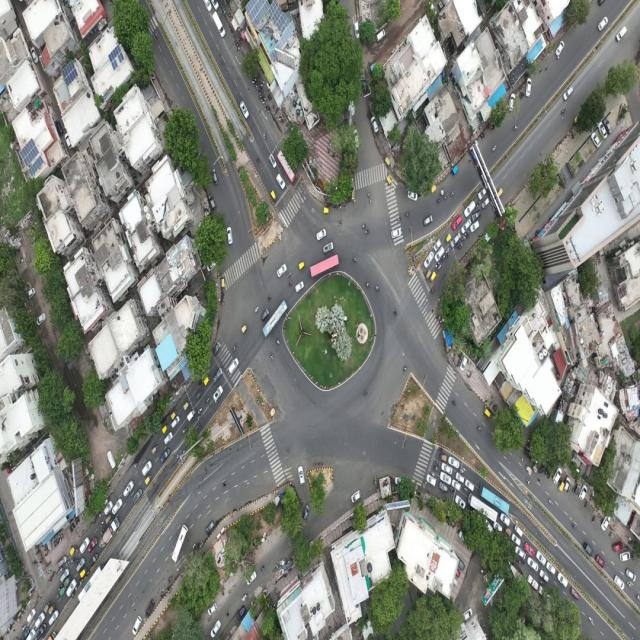3W: (170, 403, 178, 422), (150, 442, 160, 457), (503, 525, 513, 539), (143, 471, 152, 486), (161, 420, 170, 435), (182, 398, 191, 413), (572, 482, 581, 497), (482, 405, 492, 418), (43, 599, 51, 615), (384, 153, 392, 169), (240, 321, 249, 335), (572, 112, 581, 126), (203, 373, 211, 388), (269, 188, 277, 203), (48, 602, 57, 615), (63, 574, 72, 587), (69, 544, 78, 557), (451, 165, 460, 178), (439, 451, 448, 464), (105, 512, 113, 526), (79, 566, 88, 578), (297, 260, 306, 272), (385, 174, 393, 187), (430, 184, 438, 197), (322, 205, 331, 216), (497, 185, 504, 198), (425, 268, 432, 281), (430, 270, 437, 283), (558, 481, 565, 494), (59, 586, 67, 597), (196, 389, 203, 401), (220, 276, 226, 290), (444, 233, 451, 245)
Bus: (74, 561, 107, 605), (467, 488, 500, 527), (261, 297, 291, 339), (477, 481, 512, 516), (308, 254, 341, 282), (170, 521, 189, 566), (276, 150, 296, 185)
Cars: (131, 614, 143, 640), (144, 597, 157, 620), (209, 616, 222, 639), (349, 485, 363, 506), (245, 568, 259, 588), (600, 511, 612, 534), (295, 463, 306, 488), (562, 83, 575, 104), (320, 239, 336, 256), (130, 486, 144, 505), (224, 224, 235, 248), (552, 464, 564, 486), (66, 577, 79, 597), (589, 131, 602, 151), (613, 572, 626, 592), (204, 515, 215, 538), (142, 458, 154, 479), (275, 170, 287, 191), (423, 249, 435, 270), (301, 501, 311, 526), (58, 566, 71, 585), (78, 537, 91, 556), (122, 479, 135, 498), (161, 430, 174, 449), (557, 571, 570, 590), (535, 548, 548, 567), (239, 98, 250, 120), (267, 148, 278, 170), (159, 447, 171, 467), (213, 385, 225, 405), (207, 599, 219, 619), (554, 37, 564, 61), (464, 198, 476, 218), (111, 497, 124, 515), (352, 126, 361, 152), (578, 481, 588, 504), (228, 357, 240, 376), (597, 14, 609, 33), (450, 231, 462, 250), (434, 244, 446, 263), (595, 553, 607, 572), (500, 513, 514, 529), (464, 479, 477, 496), (276, 259, 286, 281), (210, 166, 220, 188), (597, 120, 608, 140), (603, 116, 614, 136), (48, 609, 60, 627), (87, 535, 99, 553), (236, 605, 248, 623), (213, 365, 223, 386), (314, 227, 328, 242), (374, 28, 387, 44), (406, 187, 419, 203), (615, 27, 628, 43), (526, 556, 539, 572), (524, 77, 533, 100), (25, 607, 37, 624), (35, 623, 47, 640), (461, 218, 473, 235), (523, 541, 535, 558), (103, 498, 114, 516), (353, 20, 362, 42), (451, 213, 462, 231), (583, 541, 594, 559), (569, 586, 581, 602), (455, 494, 467, 510), (370, 115, 380, 134), (88, 552, 99, 569), (390, 226, 403, 240), (624, 570, 637, 584), (212, 339, 221, 359), (507, 93, 516, 113), (459, 354, 468, 374), (441, 460, 453, 475), (57, 553, 68, 569), (294, 280, 305, 296), (451, 478, 462, 494), (440, 470, 451, 486), (208, 192, 217, 211), (171, 414, 181, 431), (515, 546, 528, 559), (423, 214, 434, 229), (470, 218, 481, 233), (546, 560, 557, 575), (448, 454, 459, 469), (426, 473, 437, 488), (261, 307, 271, 323), (619, 550, 631, 563), (563, 476, 571, 495), (76, 556, 86, 571), (35, 613, 46, 626), (202, 0, 213, 13), (539, 569, 550, 582), (511, 533, 522, 546), (20, 626, 30, 640), (360, 74, 367, 94), (478, 186, 487, 201), (612, 541, 624, 552), (26, 627, 36, 640), (514, 525, 524, 538), (493, 520, 503, 533), (455, 471, 465, 484), (439, 481, 449, 494), (433, 238, 442, 252), (472, 209, 482, 221), (481, 197, 490, 210)
LCV: (211, 7, 227, 39), (526, 573, 539, 591), (186, 408, 196, 425)
M2W: (569, 520, 578, 531), (590, 511, 597, 525), (259, 562, 267, 574), (220, 476, 227, 489), (537, 577, 546, 587), (559, 105, 566, 117), (524, 476, 531, 488), (587, 615, 595, 625), (351, 255, 359, 264), (395, 214, 403, 223), (490, 144, 498, 153), (54, 533, 59, 547), (231, 343, 238, 353), (253, 304, 260, 314), (392, 308, 399, 318), (450, 398, 457, 408), (547, 497, 554, 507), (462, 484, 469, 494), (361, 388, 368, 398), (153, 29, 159, 40), (375, 282, 381, 293), (225, 608, 231, 619), (269, 349, 274, 362), (262, 129, 267, 142), (192, 541, 197, 554), (30, 558, 39, 565), (98, 520, 105, 529), (107, 517, 114, 526), (133, 460, 140, 469), (626, 580, 633, 589), (204, 395, 210, 405), (275, 336, 281, 346), (267, 293, 273, 303), (286, 271, 292, 281), (450, 189, 456, 199), (513, 121, 518, 133), (440, 253, 446, 263), (402, 364, 408, 374), (476, 423, 482, 433), (449, 484, 455, 494), (52, 536, 56, 550), (59, 565, 66, 573), (514, 557, 522, 564), (432, 464, 439, 472), (429, 470, 436, 478), (22, 623, 28, 632), (68, 525, 74, 534), (65, 559, 71, 568), (85, 570, 91, 579), (198, 378, 204, 387), (288, 279, 294, 288), (436, 196, 442, 205), (443, 192, 449, 201), (475, 200, 481, 209), (623, 542, 629, 551), (459, 466, 465, 475), (438, 445, 444, 454), (436, 459, 442, 468), (365, 229, 372, 236), (361, 223, 368, 230), (404, 211, 411, 218), (608, 533, 615, 540), (58, 533, 62, 545), (100, 528, 106, 536), (182, 426, 188, 434), (197, 406, 203, 414), (466, 232, 472, 240), (455, 241, 461, 249), (422, 478, 428, 486), (71, 556, 76, 565), (367, 190, 372, 199), (365, 281, 370, 290), (520, 94, 525, 103), (458, 241, 463, 250), (57, 585, 63, 592), (197, 415, 203, 422), (251, 78, 257, 85), (260, 80, 266, 87), (258, 94, 265, 100), (337, 220, 343, 227), (479, 134, 485, 141), (445, 247, 451, 254), (430, 287, 436, 294), (75, 545, 80, 553), (264, 102, 268, 112), (435, 261, 440, 269), (437, 263, 442, 271), (535, 458, 539, 468), (39, 558, 45, 564), (72, 521, 76, 530), (235, 46, 241, 52), (257, 86, 263, 92), (463, 230, 469, 236), (524, 448, 528, 457), (74, 584, 79, 591), (79, 578, 84, 585), (254, 80, 259, 87), (445, 253, 450, 260), (629, 538, 634, 545), (267, 93, 271, 101), (520, 85, 524, 93), (76, 559, 81, 565), (461, 237, 467, 242), (538, 467, 543, 473), (56, 594, 60, 601), (71, 593, 75, 600), (262, 97, 266, 104), (268, 96, 272, 103), (61, 533, 64, 542), (527, 451, 530, 460), (75, 518, 78, 526), (256, 83, 260, 89), (546, 469, 549, 477), (267, 106, 270, 113)
Truck: (97, 516, 122, 552)
